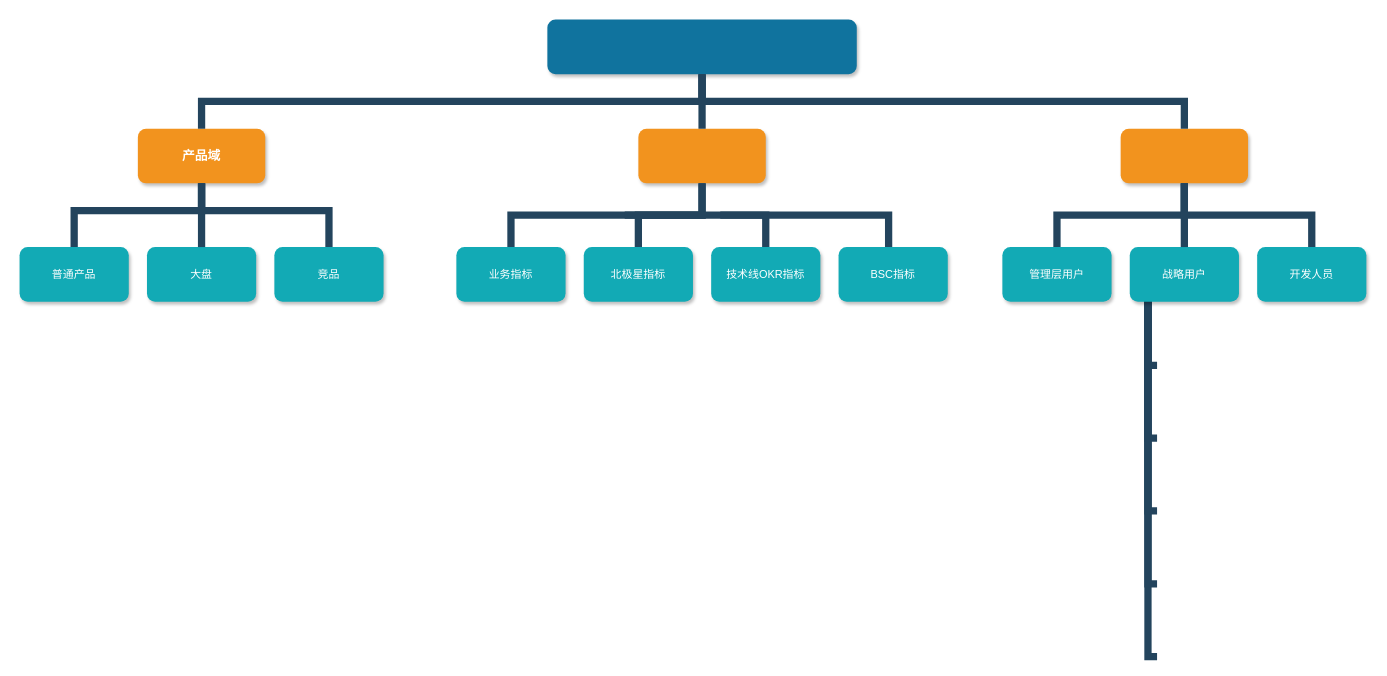
The diagram is 1387 pixels wide and 676 high, and some of its shapes have lost their labels. Each missing label, with the centre of its shape:
"指标域" belongs at [702,157].
"用户域" belongs at [1185,157].
"领域分析" belongs at [702,47].
